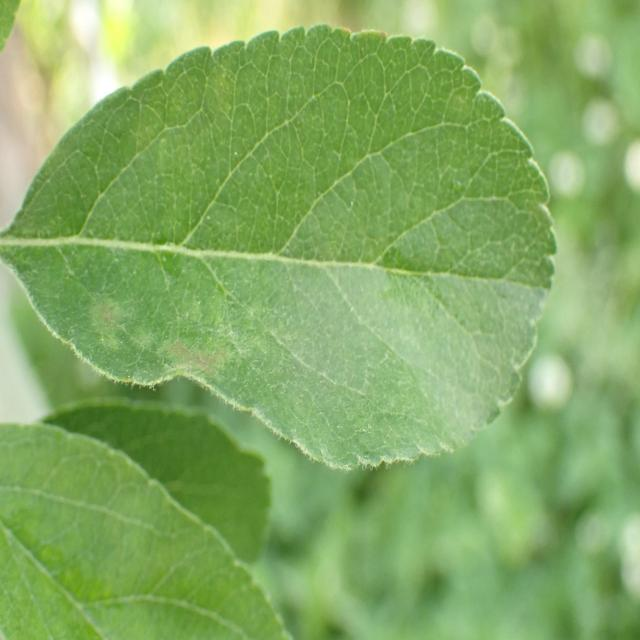scab: (41, 62, 540, 426)
